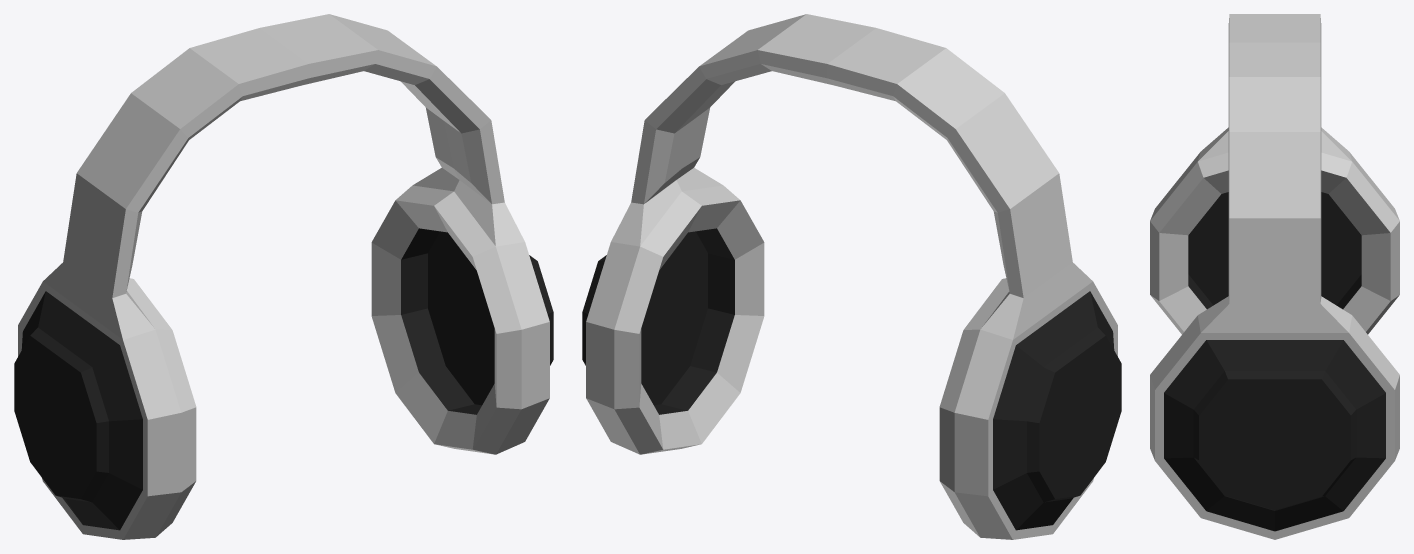
The model's file is HeadphonesV1White.fbx.
3 renders of one model, left to right at view 1: azimuth 30°, elevation 25°; view 2: azimuth 150°, elevation 25°; view 3: azimuth 270°, elevation 25°, orthographic. The views are drawn at different scales.
Parts seen in each view (by area): view 1: HeadphonesV1White; view 2: HeadphonesV1White; view 3: HeadphonesV1White.
Part boxes in pixels (x1,y1,x2,y2): HeadphonesV1White: [14, 14, 553, 539]; HeadphonesV1White: [582, 14, 1121, 539]; HeadphonesV1White: [1150, 14, 1399, 539].
Size of the model in its own units: 28.09 by 26.1 by 14.38.
